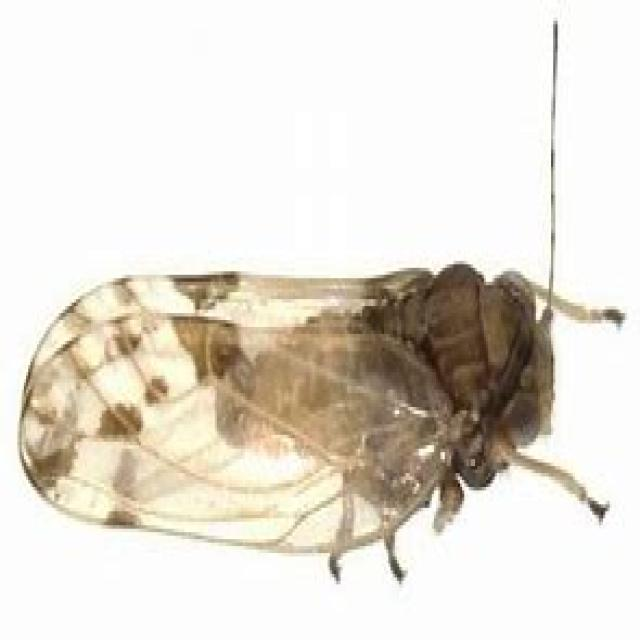Psyllid: (22, 16, 633, 581)
